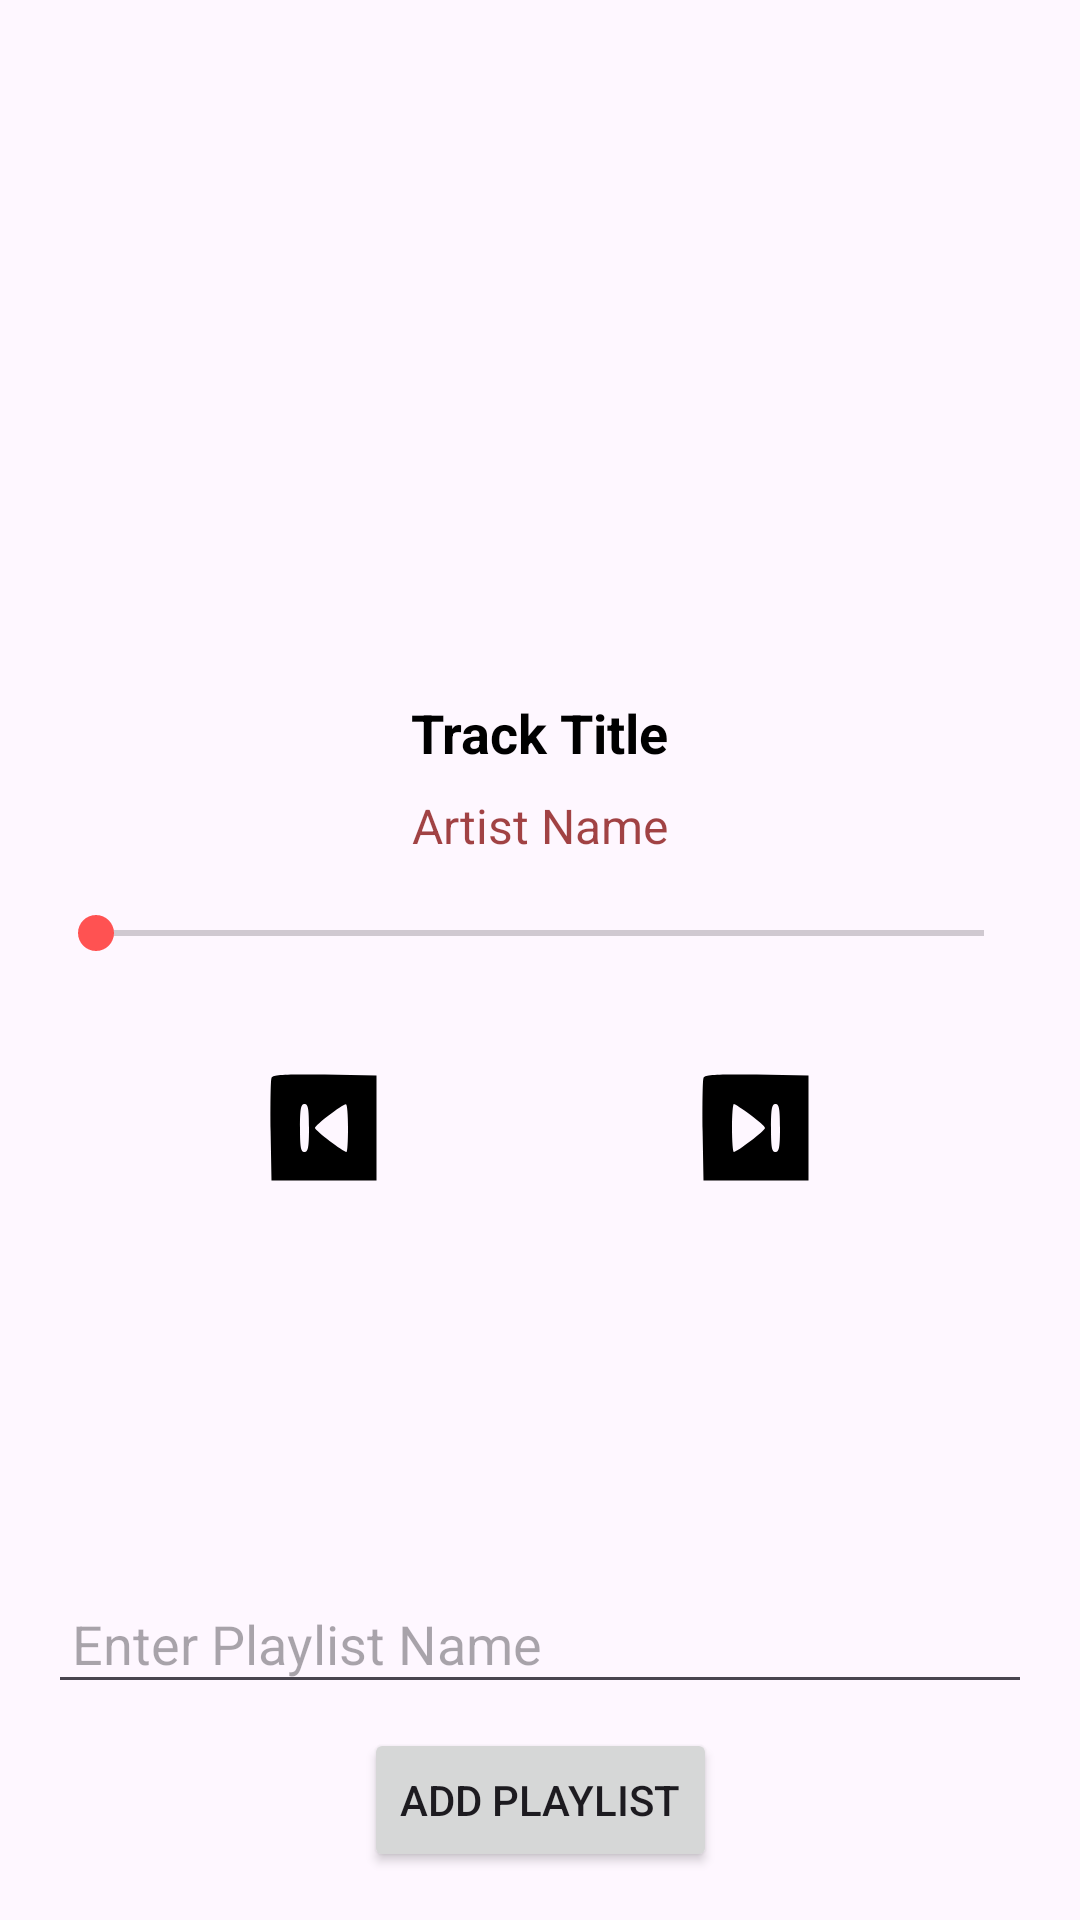

Screen size 1080px×1920px. Icon name, then its center in pixels as [x,y]:
Next track: [755,1127]
Previous track: [323,1127]
